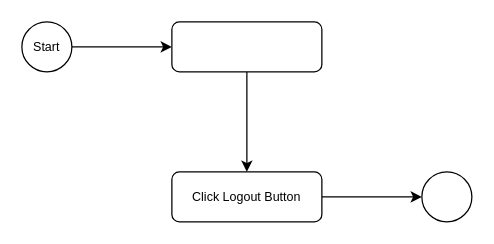
Some shapes in this 494 by 244 pixel diagram are drawn without their labels. The centre of each missing label's shape, as x and y in pixels:
"Finish" belongs at (x=446, y=196).
"Select User Profile Menu" belongs at (x=246, y=46).
